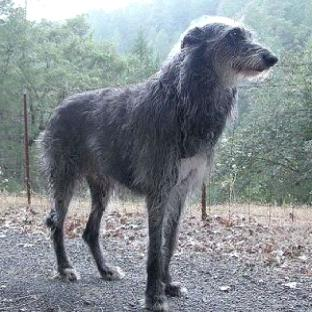Animal: (42, 18, 278, 311)
